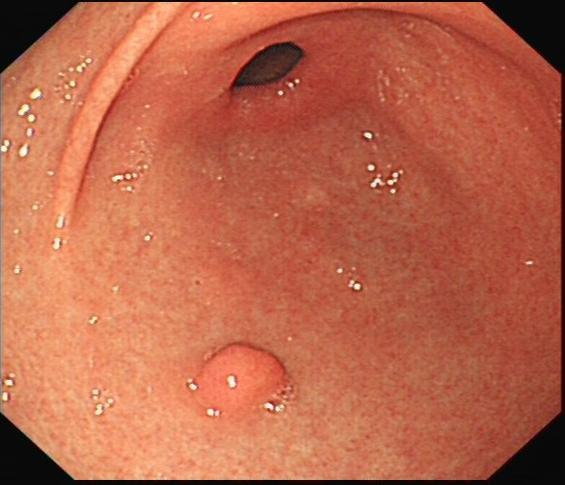Polyp: (184, 343, 292, 424)
